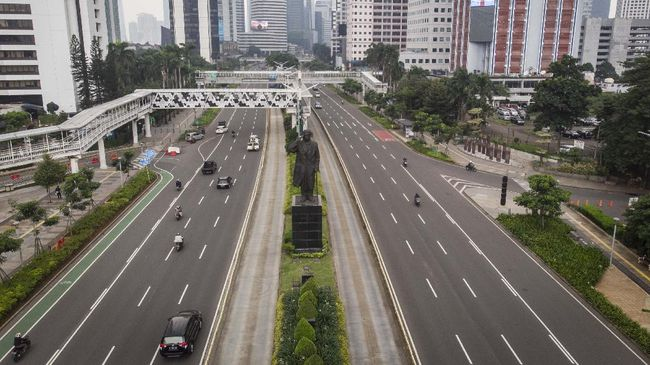car: (159, 309, 202, 357), (201, 160, 217, 175), (247, 134, 260, 152), (185, 131, 204, 143), (216, 175, 232, 189), (216, 125, 229, 136)
motorbike: (11, 333, 33, 361), (173, 233, 184, 252), (465, 159, 478, 173), (174, 205, 184, 221), (175, 177, 182, 192), (414, 192, 421, 207), (402, 156, 407, 167), (230, 130, 236, 139)
